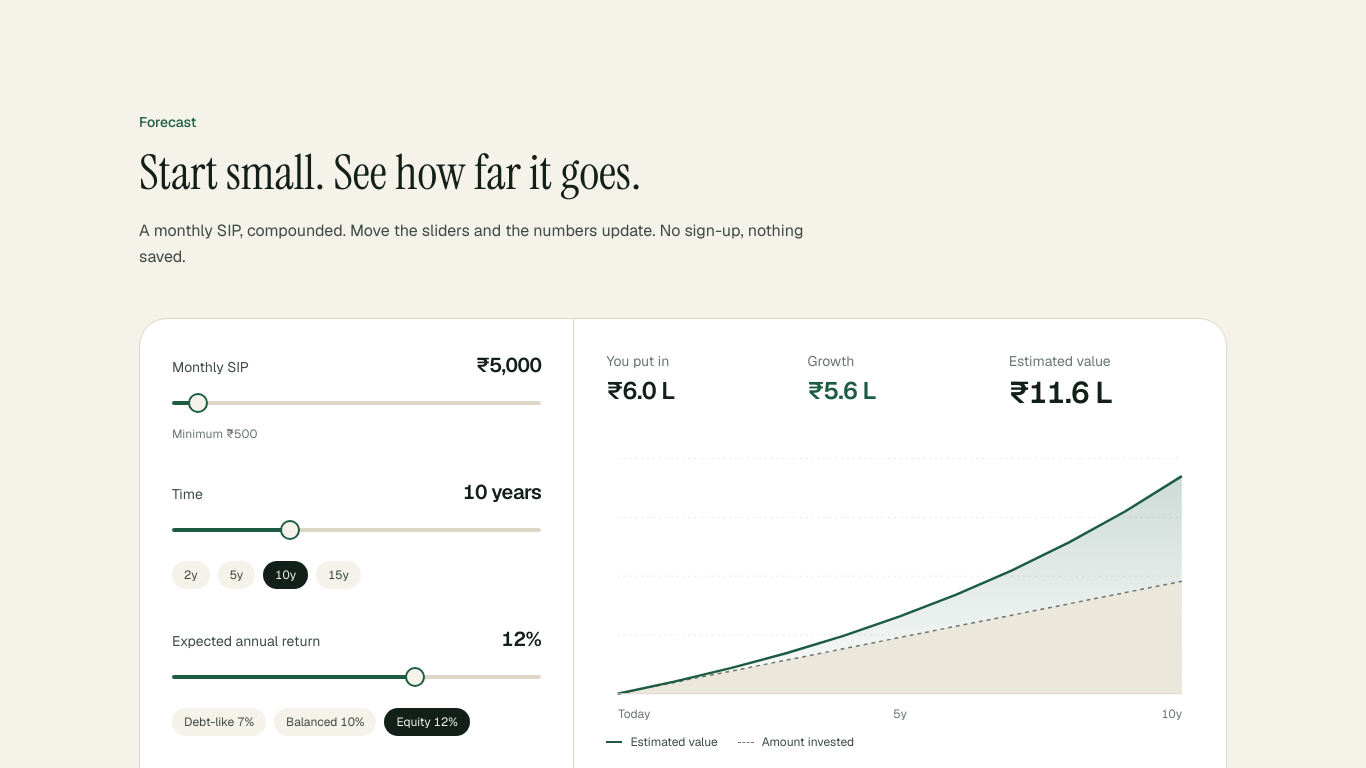
Test: Forecast › applies a horizon preset and marks it pressed
The image size is (1366, 768).
Click the button "5y".
click(237, 575)  # box left=218, top=561, right=255, bottom=589
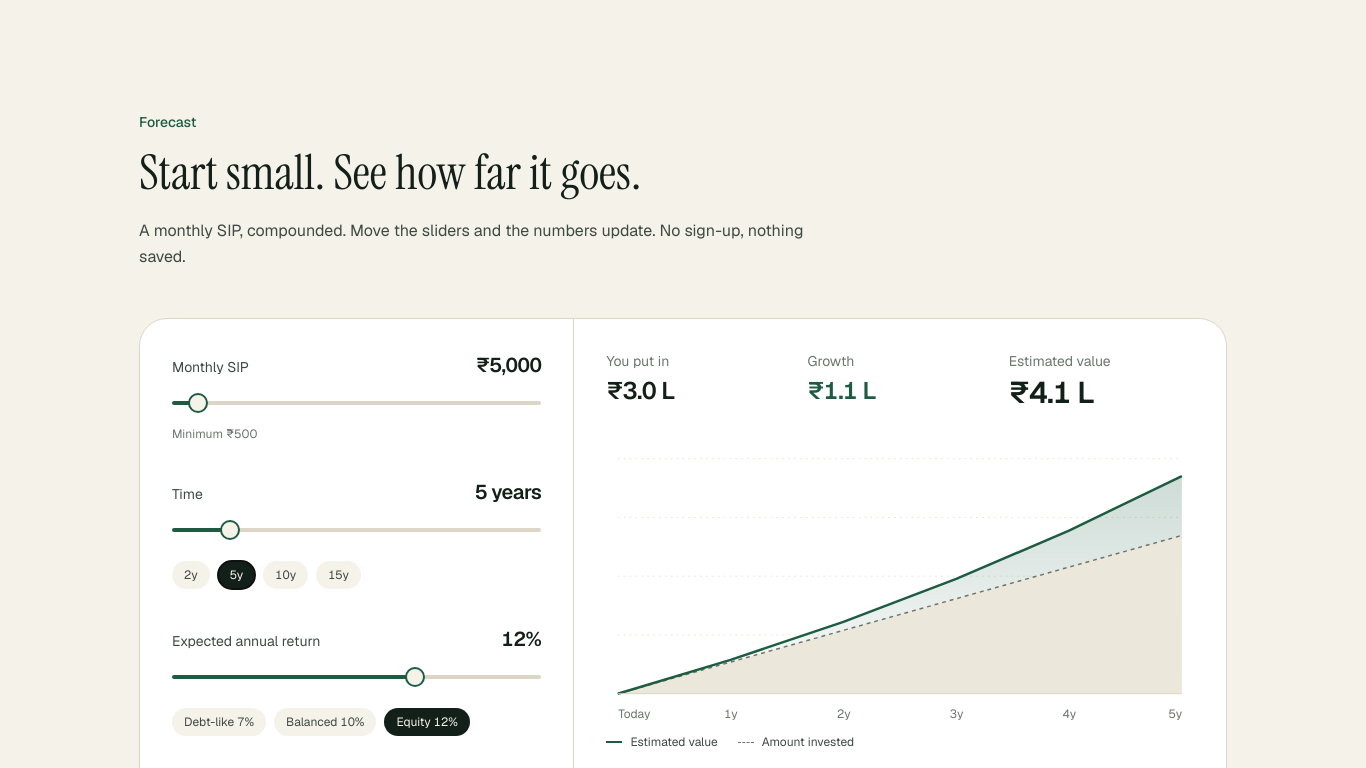
Now the text "5 years" is shown, box left=475, top=478, right=541, bottom=506
